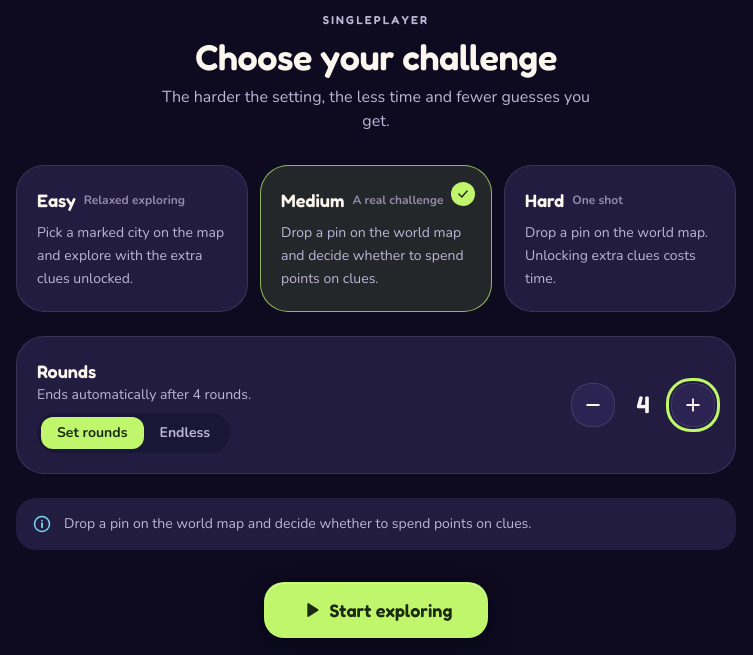
Test: SingleplayerPage round count selection › defaults to 5 fixed rounds matching multiplayer bounds (3..10) and submits the chosen count
Earlier steps of the test are not shown.
Later steps or results of the test are not shown.
What coordinates should you click on to do the following:
click the button named "More rounds"
I would click on:
 (693, 404)
Its box is [671,382,715,426].
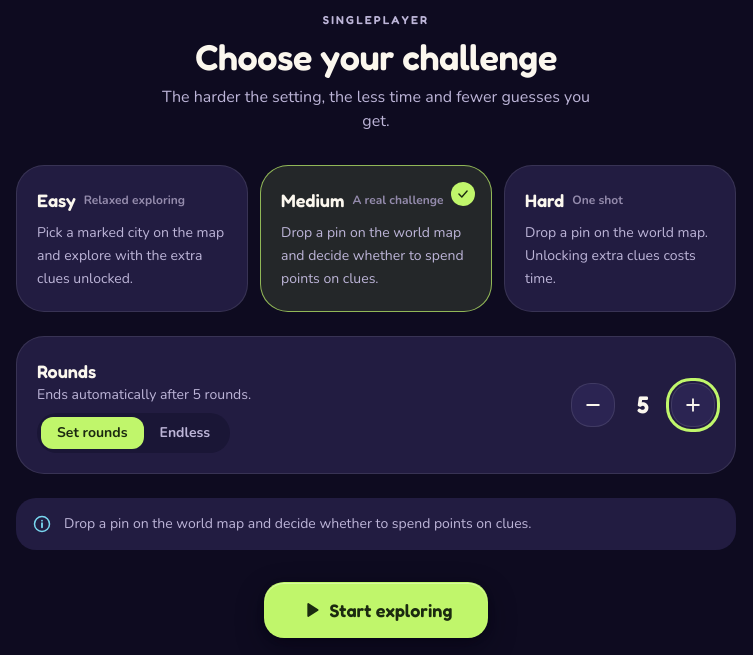
What coordinates should you click on to do the following:
click the button named "More rounds"
I would click on:
 (693, 404)
Its box is [671,382,715,426].
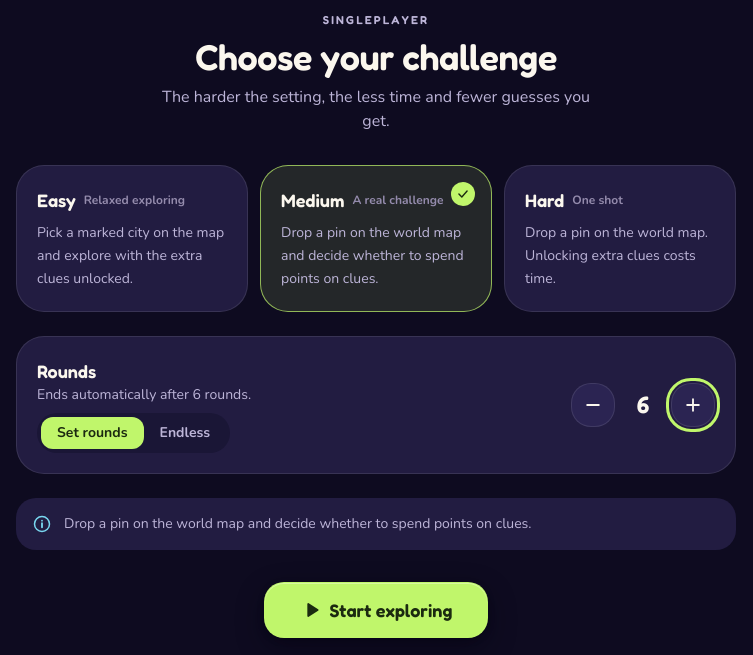
What coordinates should you click on to do the following:
click the button named "More rounds"
I would click on:
 (693, 404)
Its box is [671,382,715,426].
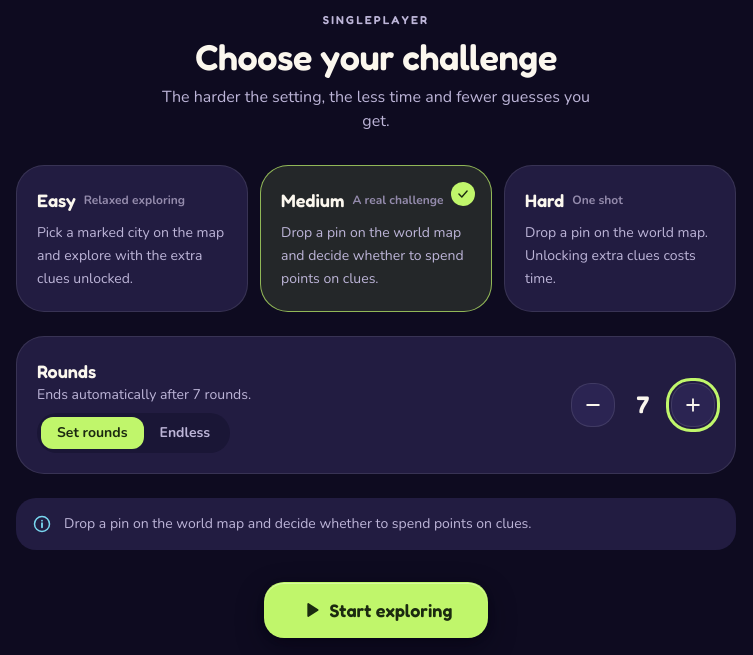
What coordinates should you click on to do the following:
click the button named "More rounds"
I would click on:
 (693, 404)
Its box is [671,382,715,426].
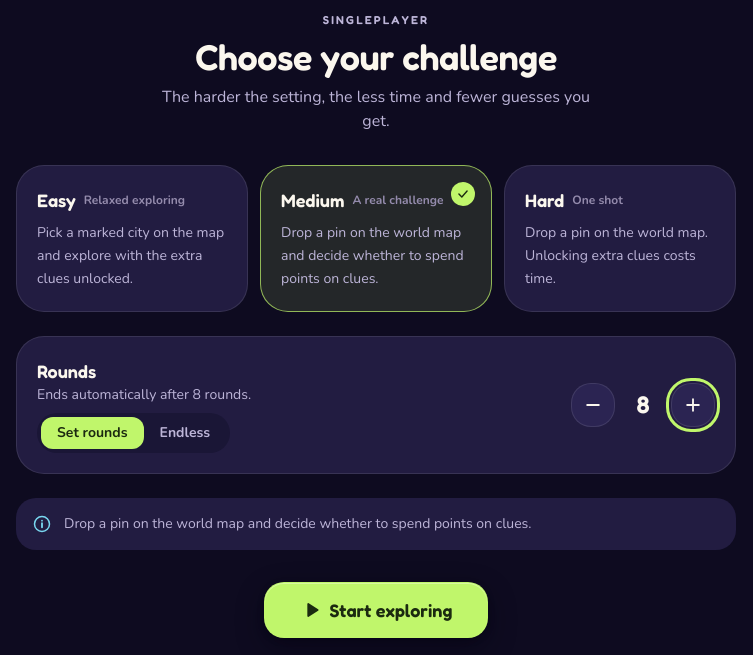
What coordinates should you click on to do the following:
click the button named "More rounds"
I would click on:
 (693, 404)
Its box is [671,382,715,426].
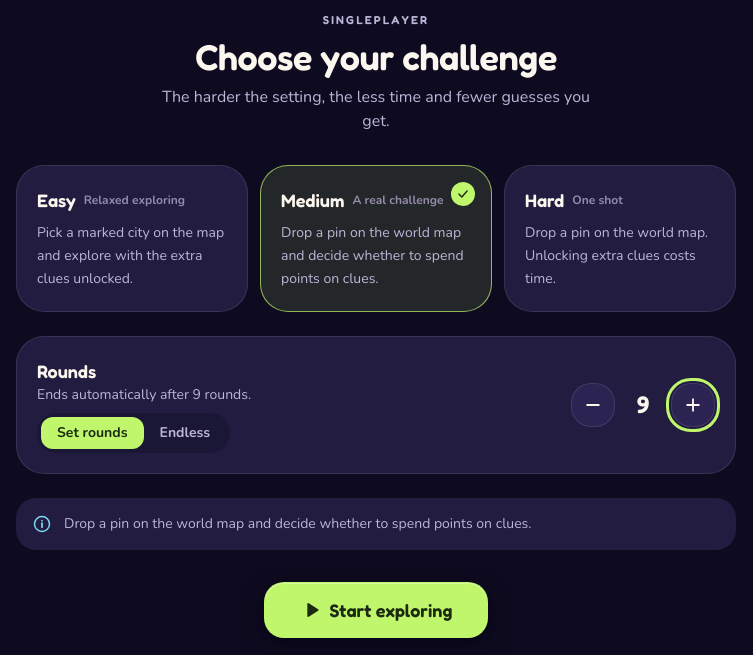
What coordinates should you click on to do the following:
click the button named "More rounds"
I would click on:
 (693, 404)
Its box is [671,382,715,426].
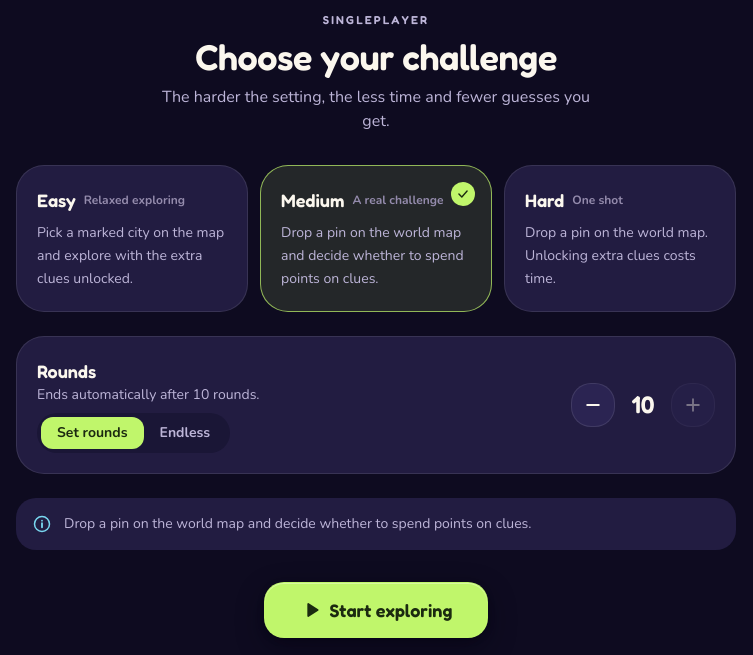
Now the button named "More rounds" is disabled, box [671,382,715,426]
Now the text "Ends automatically after 10 rounds." is shown, box [37,384,260,404]
